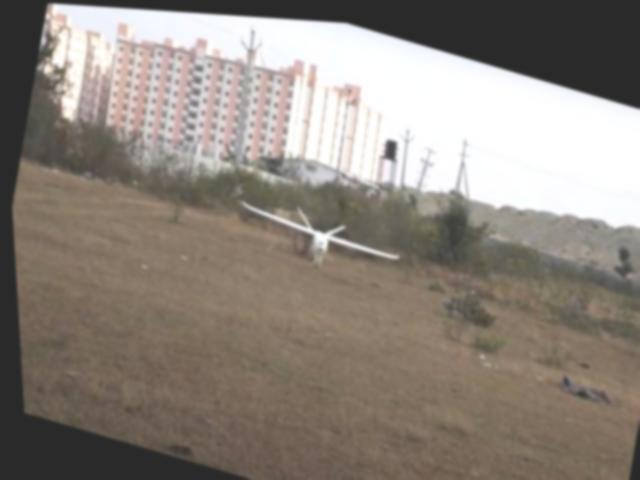iha: (224, 176, 409, 281)
